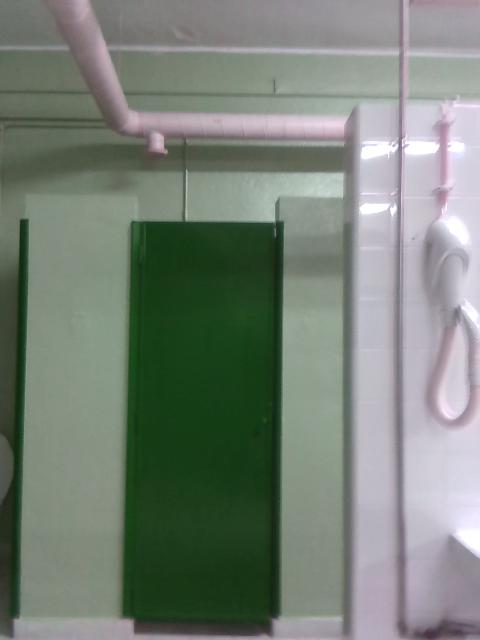closed_door: (128, 220, 284, 626)
